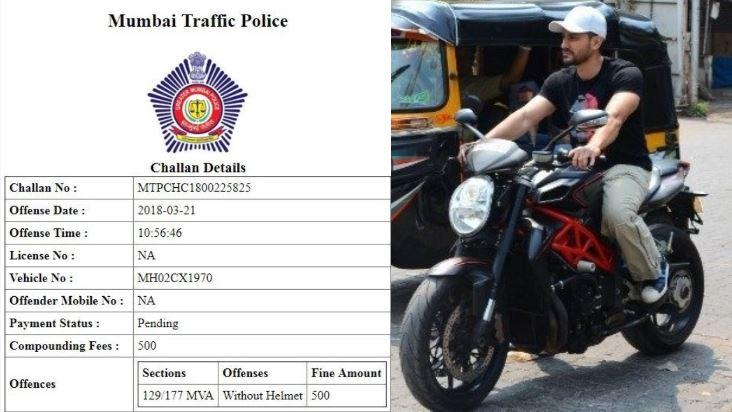nohelmet: (550, 4, 609, 68)
